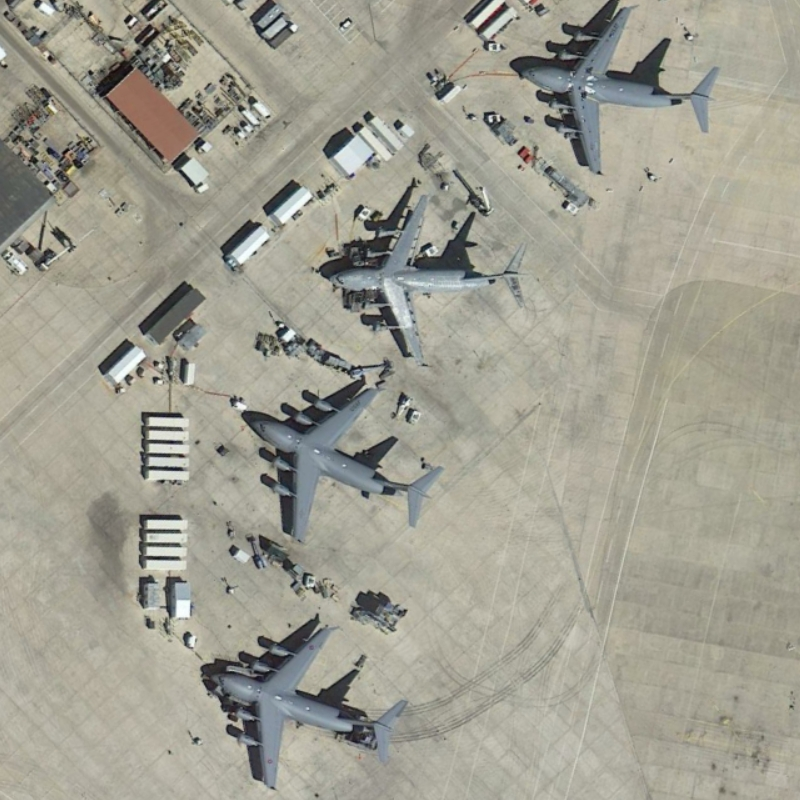A3: (505, 3, 728, 183), (320, 188, 537, 371), (199, 616, 414, 794), (236, 378, 449, 551)
